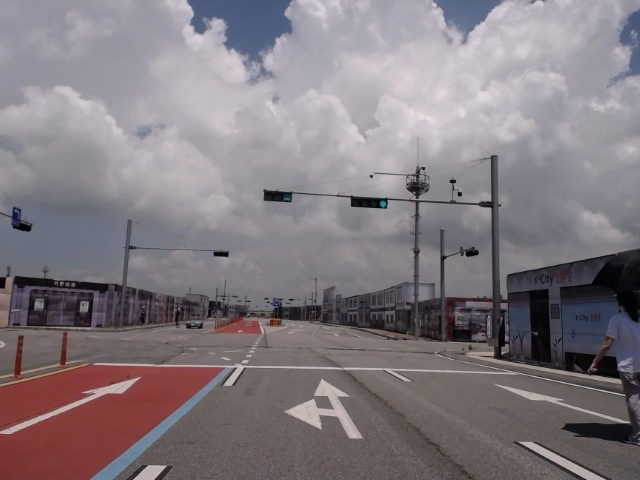straight_green_4: (352, 196, 389, 209)
